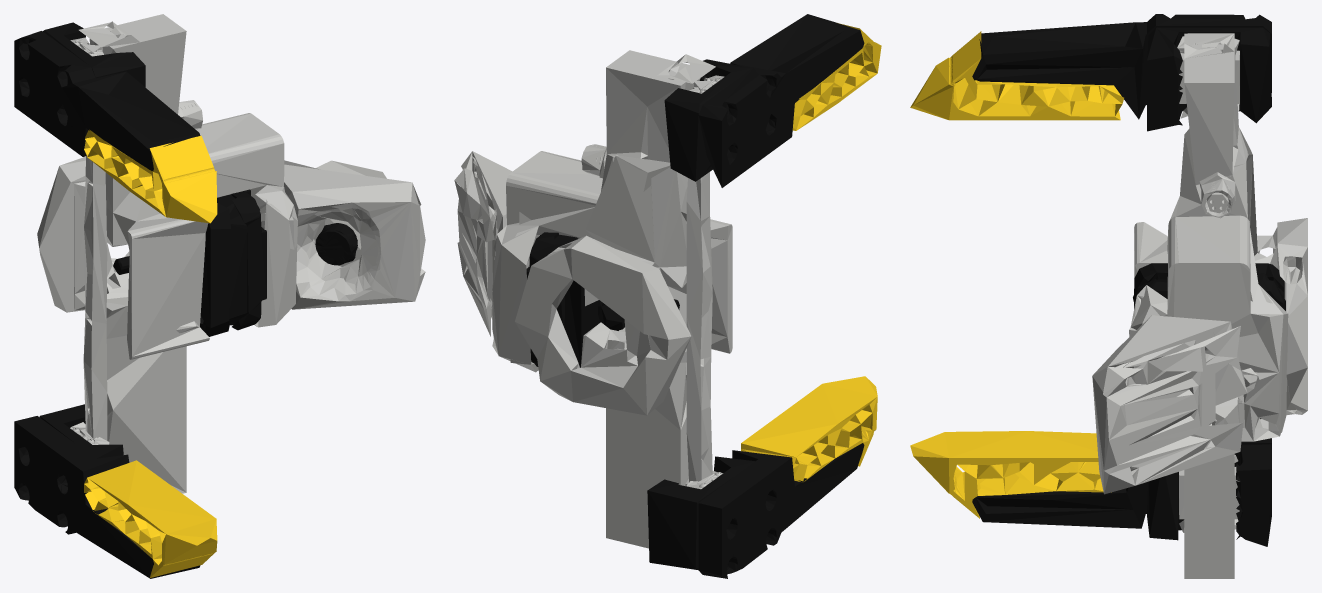
File: tool_msg_tpu_glue.glb
The picture shows the model from 3 angles, left to right: view 1: azimuth 30°, elevation 25°; view 2: azimuth 150°, elevation 25°; view 3: azimuth 270°, elevation 25°; orthographic projection. The views are drawn at different scales.
Parts seen in each view (by area): view 1: tool_msg_tpu_glue__body, tool_msg_tpu_glue__msg_jaw_black, tool_msg_tpu_glue__msg_jaw_yellow, tool_msg_tpu_glue__black; view 2: tool_msg_tpu_glue__body, tool_msg_tpu_glue__msg_jaw_black, tool_msg_tpu_glue__msg_jaw_yellow, tool_msg_tpu_glue__black; view 3: tool_msg_tpu_glue__body, tool_msg_tpu_glue__msg_jaw_black, tool_msg_tpu_glue__msg_jaw_yellow, tool_msg_tpu_glue__black.
Boxes of the visible parts, bbox=[...] form: tool_msg_tpu_glue__body: bbox=[37, 14, 425, 493]; tool_msg_tpu_glue__msg_jaw_black: bbox=[14, 22, 200, 578]; tool_msg_tpu_glue__msg_jaw_yellow: bbox=[84, 129, 217, 577]; tool_msg_tpu_glue__black: bbox=[113, 189, 357, 336]; tool_msg_tpu_glue__body: bbox=[454, 50, 732, 548]; tool_msg_tpu_glue__msg_jaw_black: bbox=[647, 14, 864, 578]; tool_msg_tpu_glue__msg_jaw_yellow: bbox=[741, 23, 881, 481]; tool_msg_tpu_glue__black: bbox=[526, 232, 679, 367]; tool_msg_tpu_glue__body: bbox=[1092, 33, 1307, 578]; tool_msg_tpu_glue__msg_jaw_black: bbox=[972, 14, 1271, 546]; tool_msg_tpu_glue__msg_jaw_yellow: bbox=[910, 31, 1123, 518]; tool_msg_tpu_glue__black: bbox=[1133, 263, 1285, 418].
Bounding box in the file's own units: 0.1166 × 0.1594 × 0.1112.
